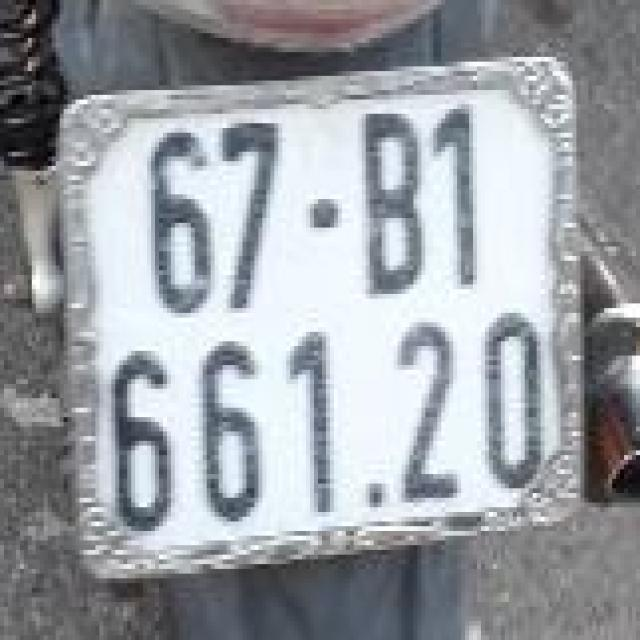0: (467, 298, 551, 522)
1: (278, 322, 354, 540), (427, 94, 491, 298)
2: (388, 301, 463, 519)
6: (93, 334, 169, 543), (143, 123, 223, 318), (191, 337, 270, 526)
7: (215, 116, 286, 325)
B: (354, 102, 429, 306)
